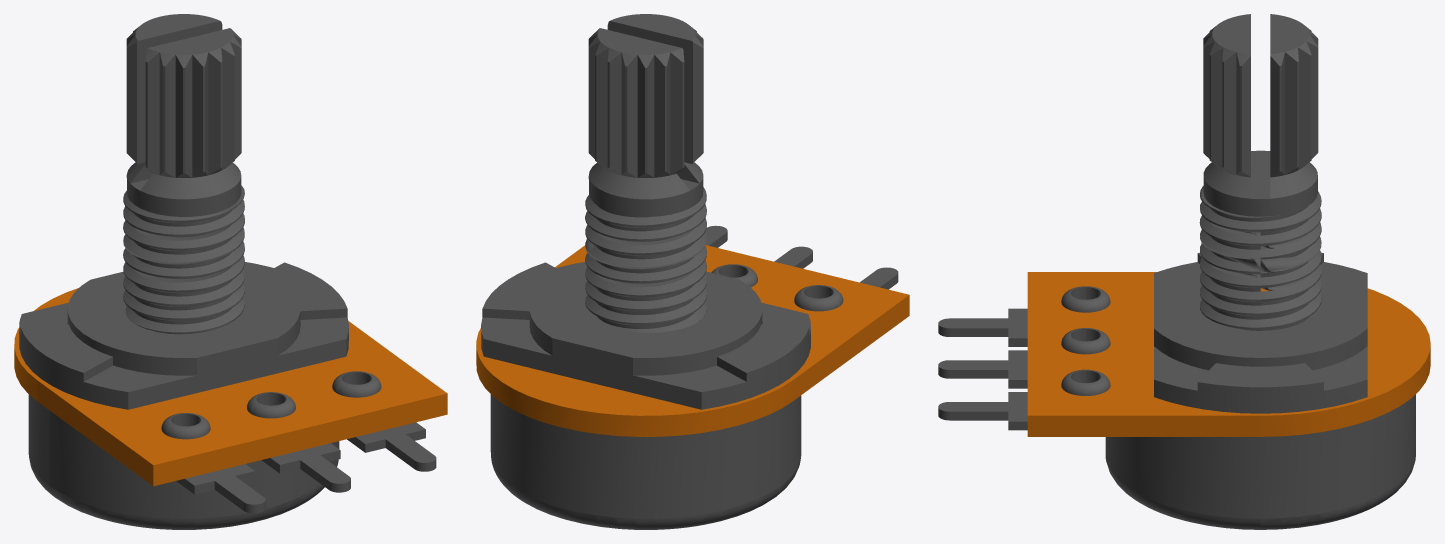
Rendered from pot-10k.glb.
3 renders of one model, left to right at view 1: azimuth 30°, elevation 25°; view 2: azimuth 150°, elevation 25°; view 3: azimuth 270°, elevation 25°, orthographic.
Size of the model in its own units: 17.5 by 24.8 by 25.35.
